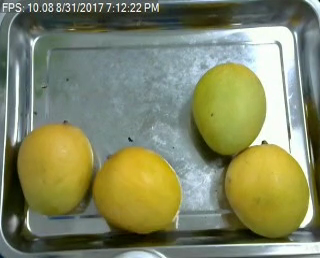Mango: (89, 141, 187, 236), (221, 143, 312, 241), (186, 58, 272, 156), (15, 120, 93, 218)
